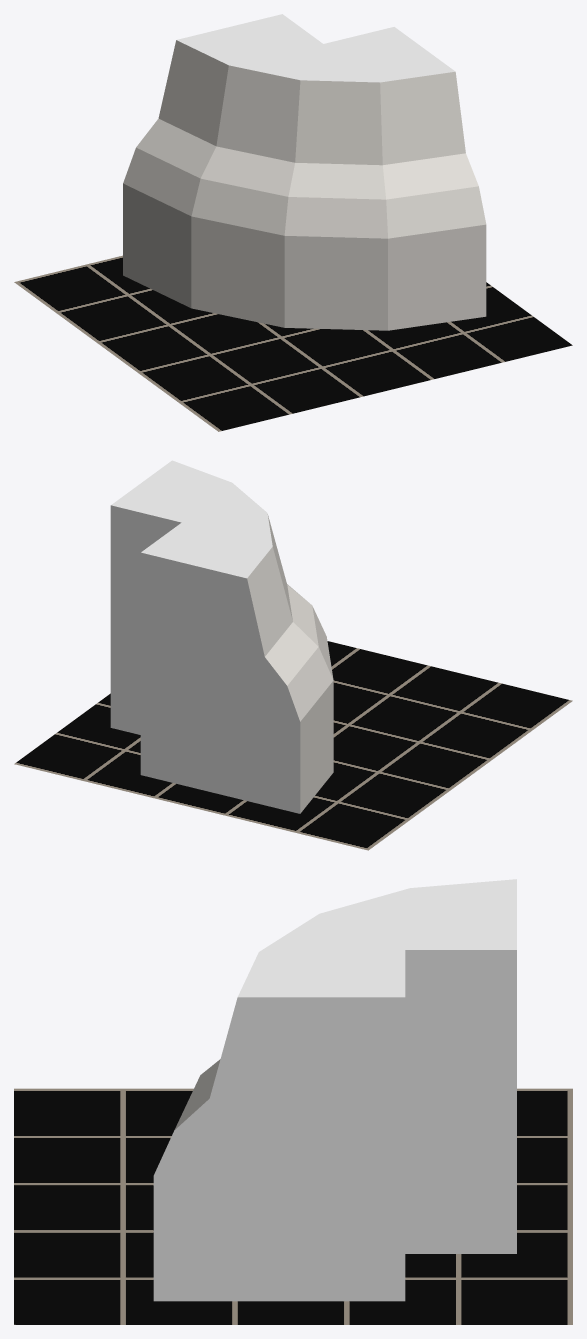
File: Basic_Curve_Outer_3x3_Base.glb
3 renders of one model, top to bottom at view 1: azimuth 30°, elevation 25°; view 2: azimuth 150°, elevation 25°; view 3: azimuth 270°, elevation 25°, orthographic. The views are drawn at different scales.
Parts seen in each view (by area): view 1: Basic_Curve_Outer_3x3_Base, Floor; view 2: Basic_Curve_Outer_3x3_Base, Floor; view 3: Basic_Curve_Outer_3x3_Base, Floor.
Part boxes in pixels (box(x1,y1,x2,y2)): Basic_Curve_Outer_3x3_Base: box(123, 14, 486, 330); Floor: box(14, 255, 572, 431); Basic_Curve_Outer_3x3_Base: box(110, 460, 333, 813); Floor: box(14, 641, 572, 850); Basic_Curve_Outer_3x3_Base: box(153, 879, 516, 1301); Floor: box(14, 1088, 572, 1324).
Bounding box in the file's own units: 500 × 300 × 500.
3 materials, 1 textured.
